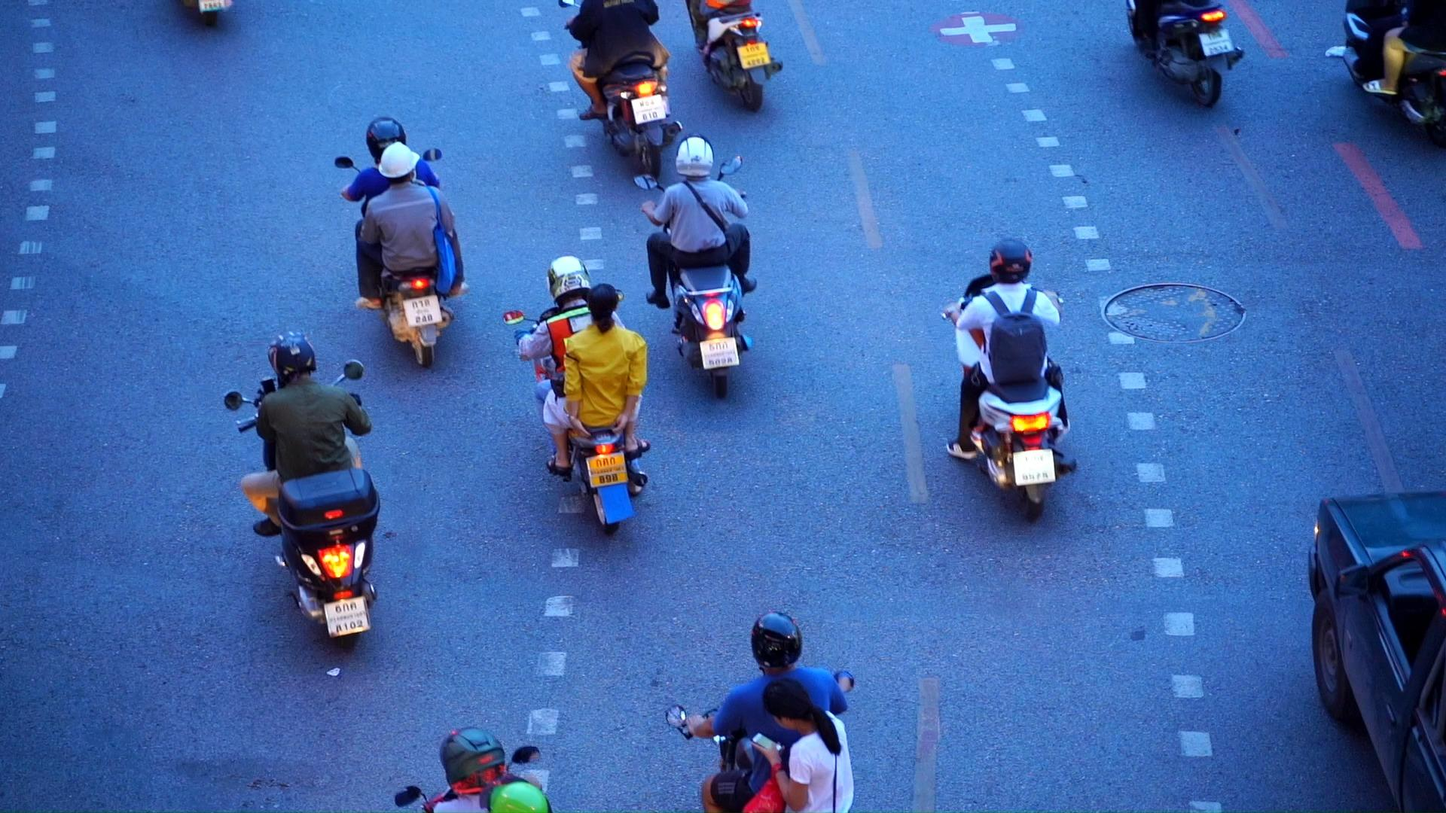driver: (223, 331, 384, 649), (502, 255, 651, 535), (939, 238, 1078, 523), (665, 612, 855, 813), (333, 116, 470, 366), (633, 132, 756, 399), (557, 0, 684, 178), (1342, 0, 1446, 149), (395, 727, 553, 813), (684, 0, 783, 112)
helmet: (439, 727, 506, 796), (751, 612, 802, 668), (267, 330, 317, 385), (480, 776, 554, 813), (546, 255, 592, 306), (989, 238, 1032, 284), (366, 116, 406, 164), (378, 141, 420, 184), (676, 132, 714, 178)
no-helmet: (762, 677, 840, 732), (587, 283, 619, 334)
